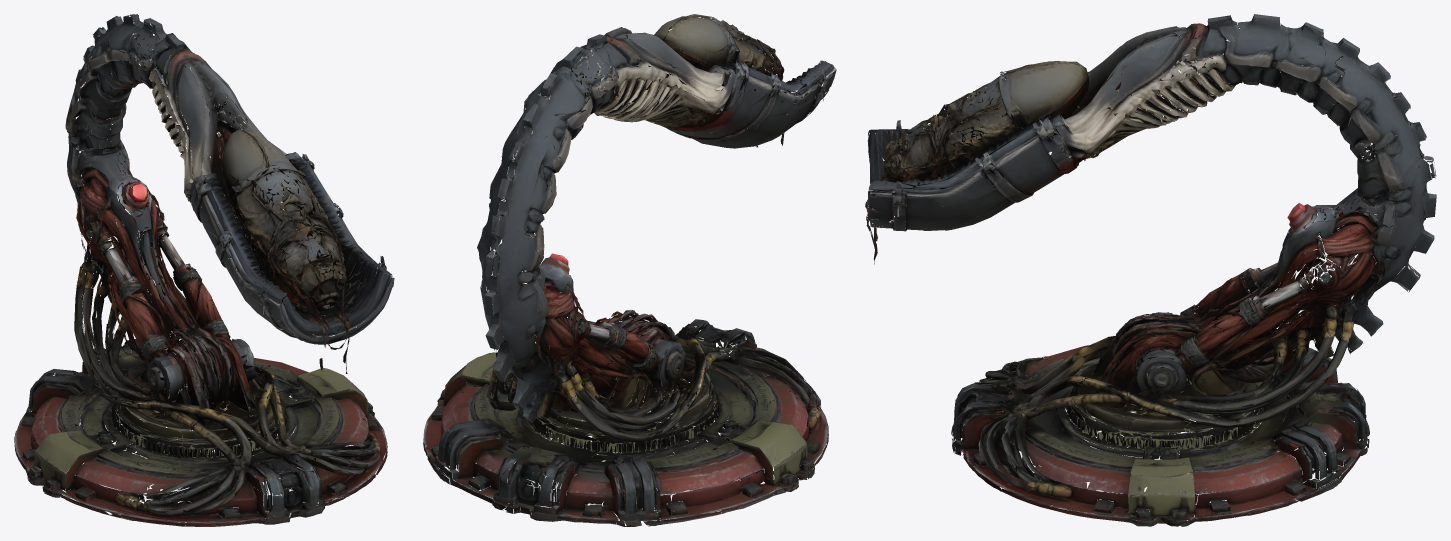
File: vesper_mortar_loading_cradle.glb
3 views of the same model, side by side, from view 1: azimuth 30°, elevation 25°; view 2: azimuth 150°, elevation 25°; view 3: azimuth 270°, elevation 25° (orthographic). The views are drawn at different scales.
Visible parts, largest first — view 1: node_0; view 2: node_0; view 3: node_0.
Boxes of the visible parts, x1=… form: node_0: x1=14, y1=14, x2=394, y2=526; node_0: x1=423, y1=14, x2=836, y2=526; node_0: x1=865, y1=14, x2=1436, y2=526.
Size of the model in its own units: 0.7648 by 0.88 by 1.07.
Materials: 1 (1 with a texture image).
